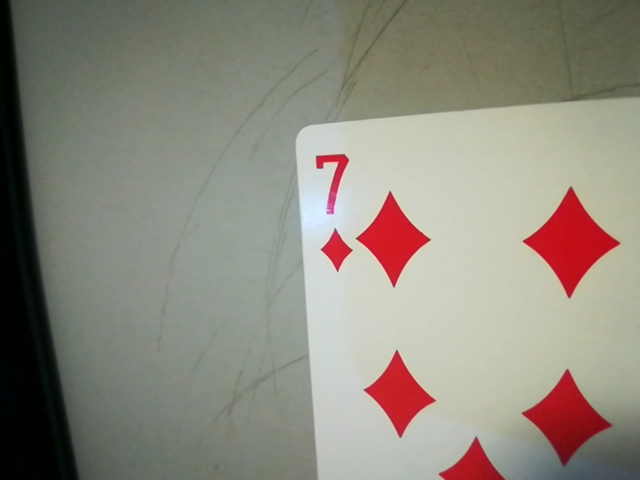fk 7: (303, 144, 356, 278)
